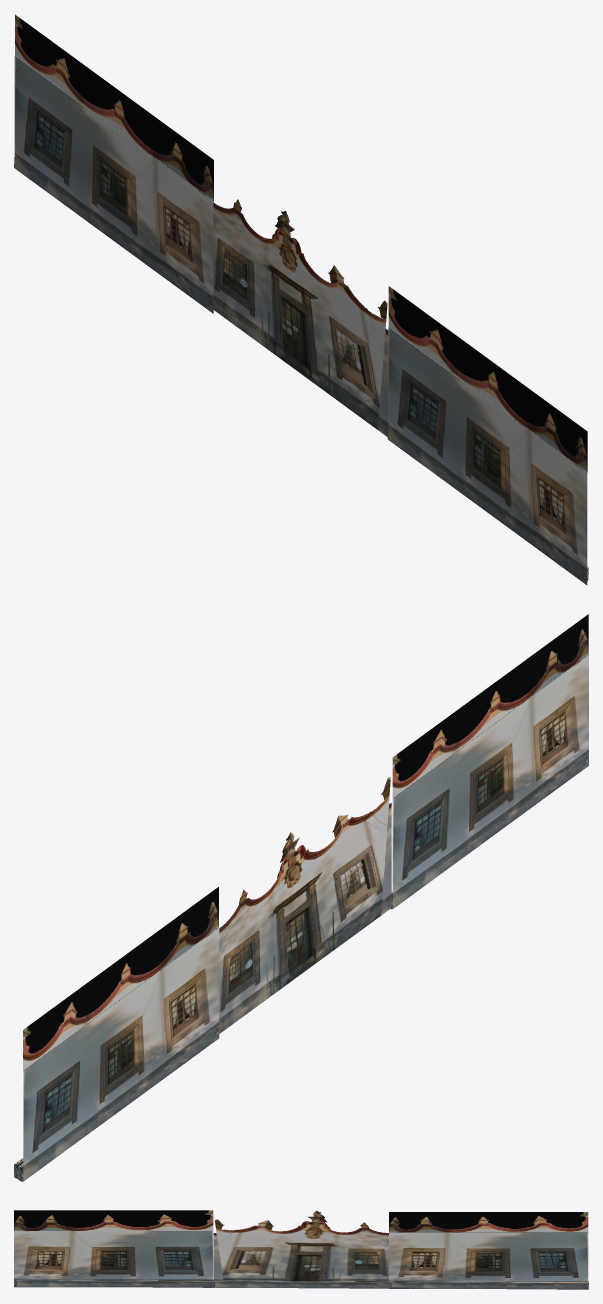
File: casaHC.obj
The picture shows the model from 3 angles, top to bottom: view 1: azimuth 30°, elevation 25°; view 2: azimuth 150°, elevation 25°; view 3: azimuth 270°, elevation 25°; orthographic projection. The views are drawn at different scales.
Parts seen in each view (by area): view 1: Pared.001_Cube.003, Pared_Cube, Puerta_Cube.006, Cube_Cube.002, Cube.001_Cube.005; view 2: Pared.001_Cube.003, Pared_Cube, Puerta_Cube.006, Cube_Cube.002, Cube.001_Cube.005; view 3: Pared.001_Cube.003, Pared_Cube, Puerta_Cube.006, Cube_Cube.002, Cube.001_Cube.005, barda_Cube.001, barda.004_Cube.009, barda.005_Cube.010, barda.003_Cube.008.
Part boxes in pixels (x1,y1,x2,y2): Pared.001_Cube.003: [14, 56, 213, 313]; Pared_Cube: [388, 327, 587, 584]; Puerta_Cube.006: [213, 199, 388, 436]; Cube_Cube.002: [388, 286, 587, 472]; Cube.001_Cube.005: [15, 14, 213, 200]; Pared.001_Cube.003: [23, 927, 219, 1181]; Pared_Cube: [392, 655, 588, 908]; Puerta_Cube.006: [219, 777, 391, 1033]; Cube_Cube.002: [392, 614, 588, 797]; Cube.001_Cube.005: [23, 887, 218, 1070]; Pared.001_Cube.003: [389, 1232, 588, 1288]; Pared_Cube: [14, 1231, 213, 1287]; Puerta_Cube.006: [213, 1210, 388, 1280]; Cube_Cube.002: [14, 1210, 213, 1230]; Cube.001_Cube.005: [389, 1212, 588, 1232]; barda_Cube.001: [15, 1279, 213, 1287]; barda.004_Cube.009: [390, 1281, 588, 1289]; barda.005_Cube.010: [213, 1280, 411, 1288]; barda.003_Cube.008: [412, 1281, 588, 1281].
Bounding box in the file's own units: 0.2405 × 3.68 × 24.47.
6 materials, 6 textured.
